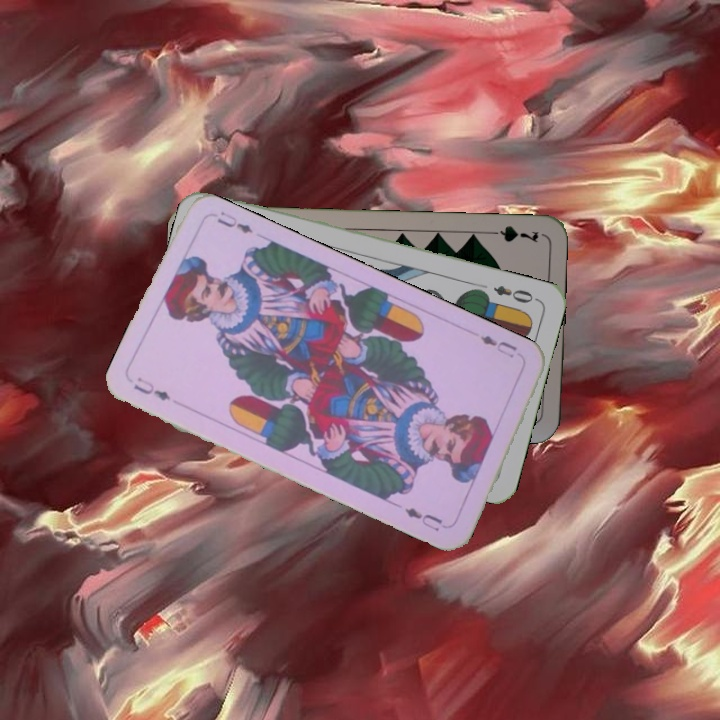EO: (489, 281, 541, 306)
EU: (129, 372, 173, 403), (476, 331, 520, 361)
G7: (482, 222, 541, 246)
